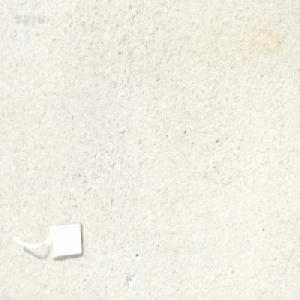LuggageTag: (12, 220, 85, 262)
